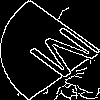M: (25, 25, 100, 87)
